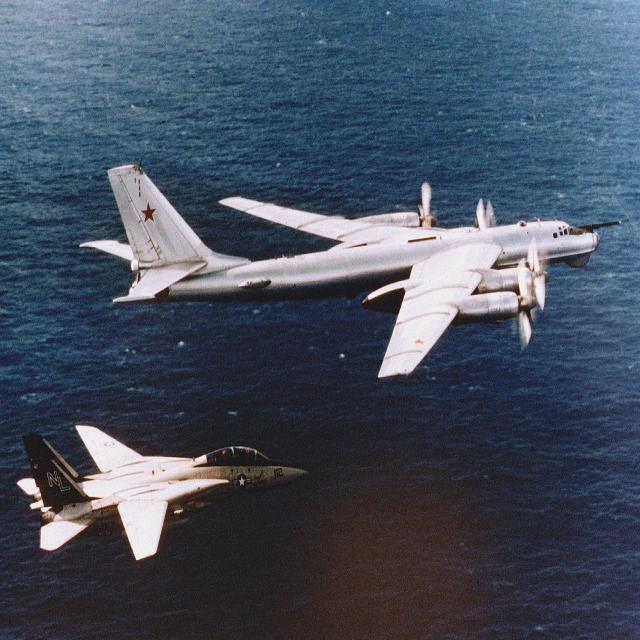MIL_Plane: (77, 162, 622, 382), (14, 423, 308, 562)
